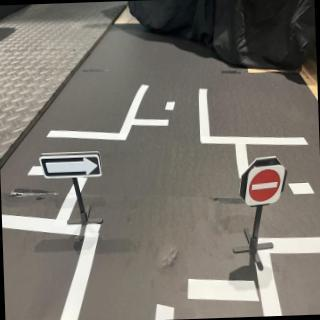sign_noentry: (245, 167, 288, 207)
sign_oneway_right: (39, 150, 104, 180)
